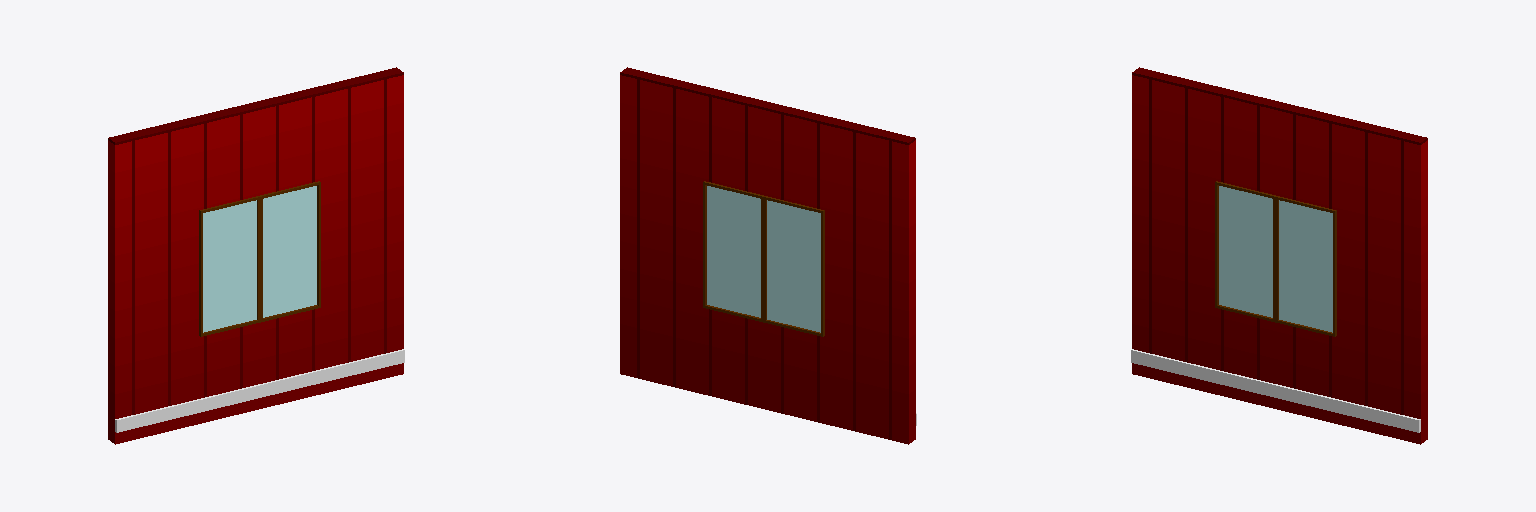
The picture shows the model from 3 angles: view 1: azimuth 30°, elevation 25°; view 2: azimuth 150°, elevation 25°; view 3: azimuth 330°, elevation 25°; orthographic projection.
Visible parts, largest first — view 1: object 1; view 2: object 1; view 3: object 1.
Part boxes in pixels (bbox=[...]): object 1: bbox=[108, 67, 404, 444]; object 1: bbox=[620, 67, 916, 444]; object 1: bbox=[1131, 67, 1427, 444].
Bounding box in the file's own units: 12 × 12 × 0.7.
Materials: 1 (1 with a texture image).